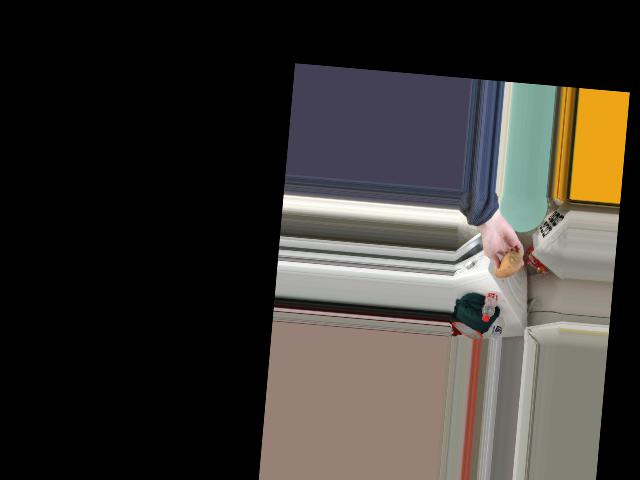sweet_potato: (490, 245, 520, 279)
